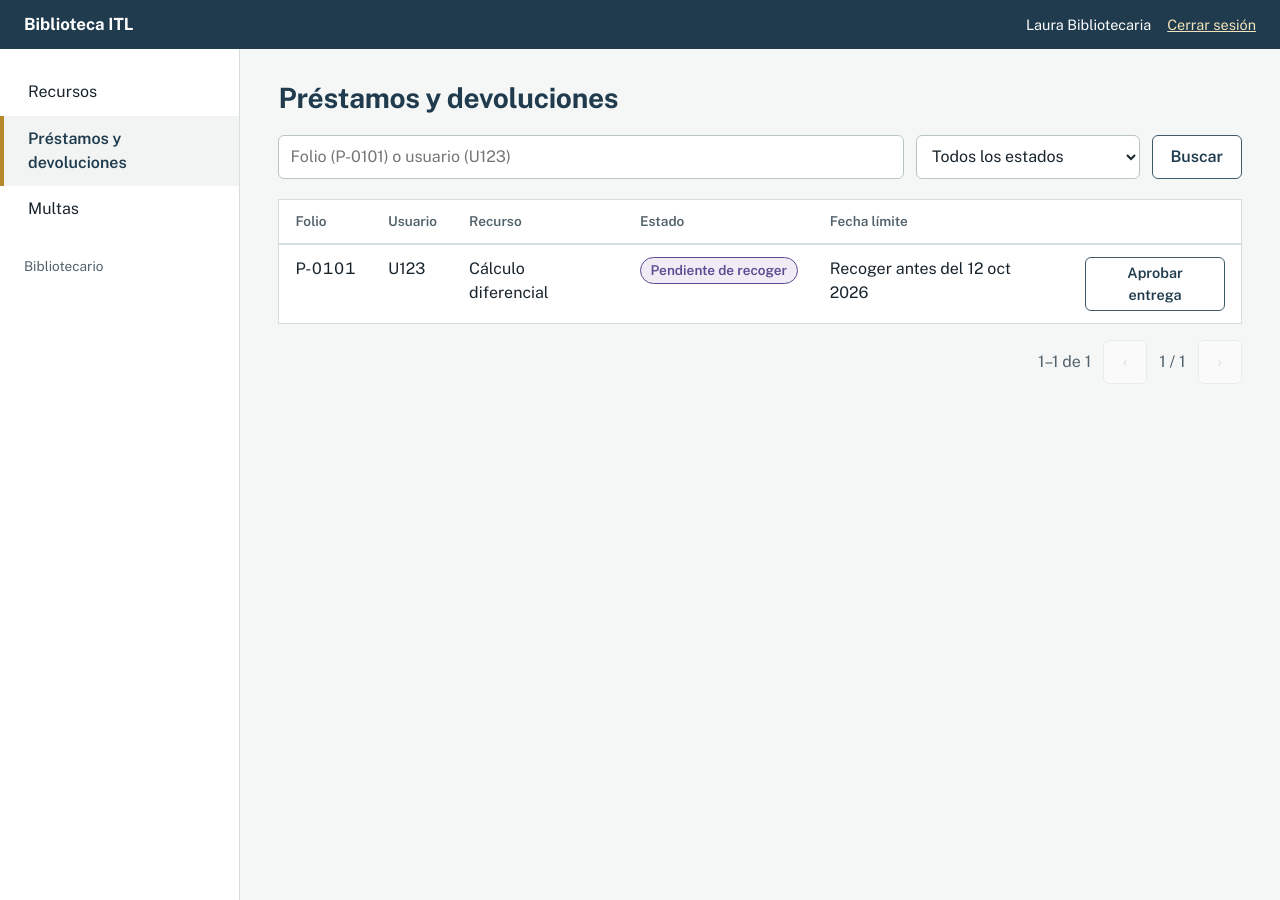
Test: Préstamos y devoluciones (CU04, CU05) › aprobar entrega pide confirmación y muestra la fecha límite
Click the button "Aprobar entrega" at [1155, 284], box [1086,256,1225,311]
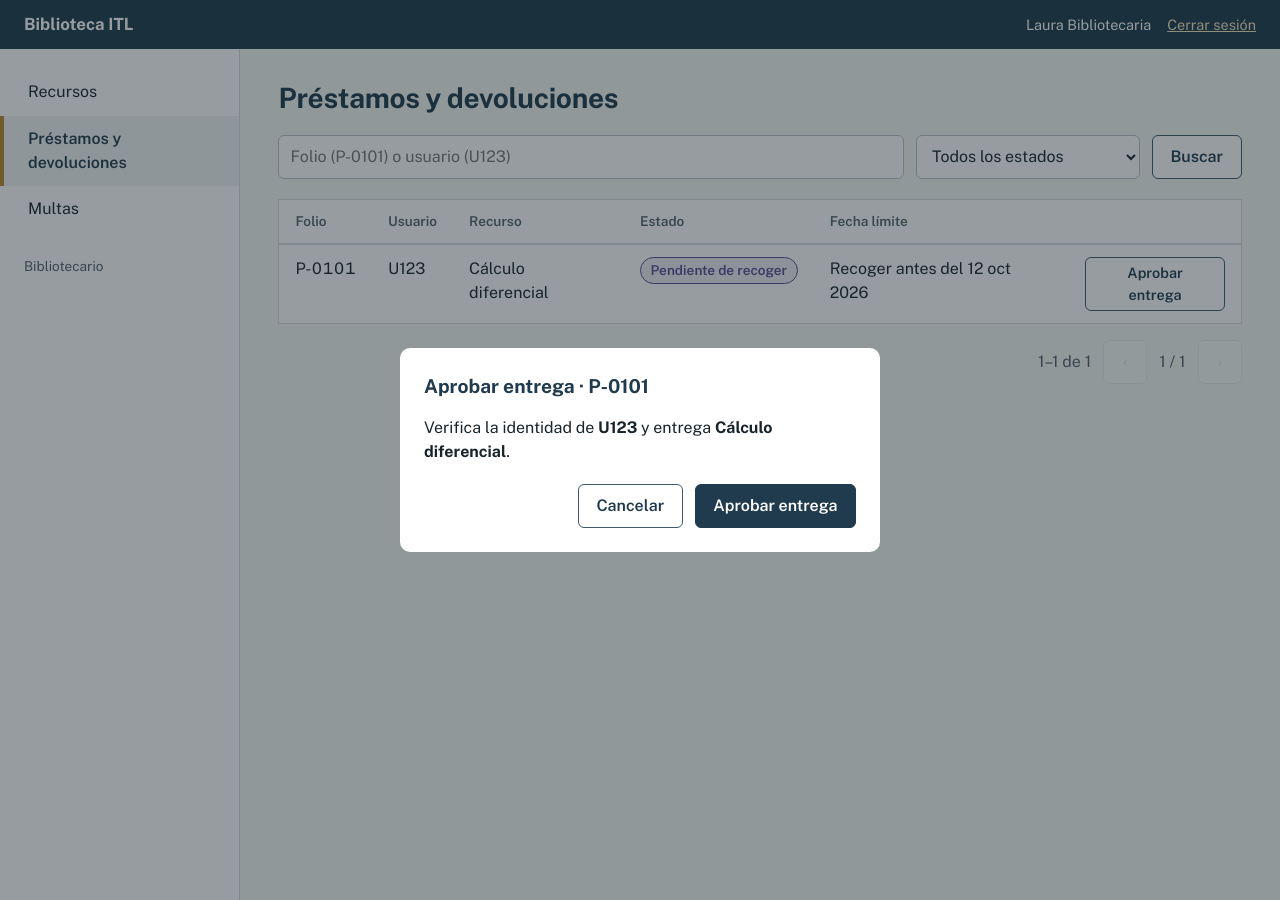
Click the button "Aprobar entrega" at [775, 506], box [695,484,856,528]
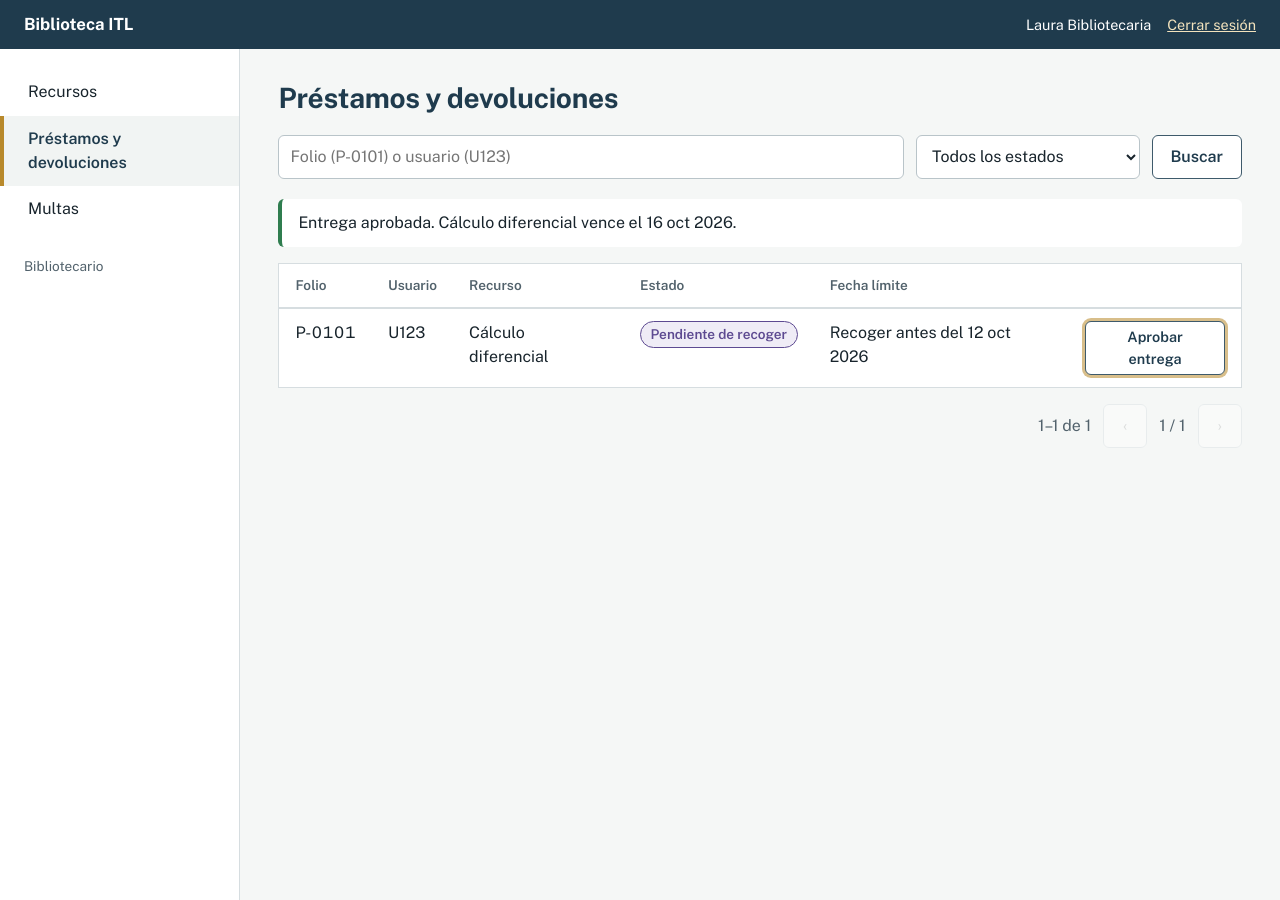
Result: the text "Entrega aprobada. Cálculo diferencial vence el 16 oct 2026." is shown at [278,199,1242,247]
Result: the dialog is gone
